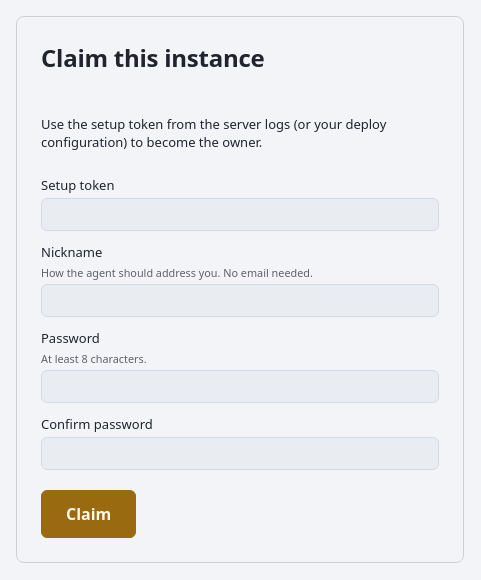
it: mismatched passwords block submission
Expected: the heading "Claim this instance" is shown, 41,41 -> 265,74
Type "t" into the field labelled "Setup token" at (240, 214), box 41,198 -> 439,231
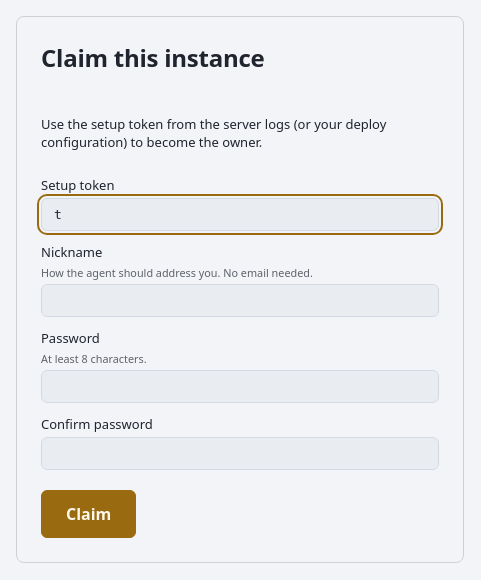
Type "dyl" into the field labelled "Nickname" at (240, 300), box 41,284 -> 439,317
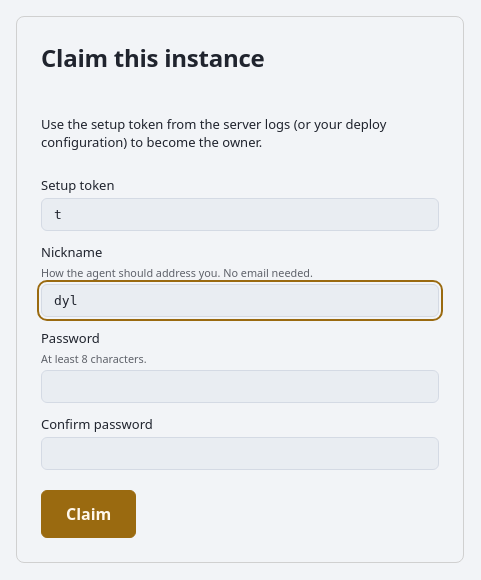
Type "hunter22-long" into the password field labelled "Password" at (240, 386), box 41,370 -> 439,403
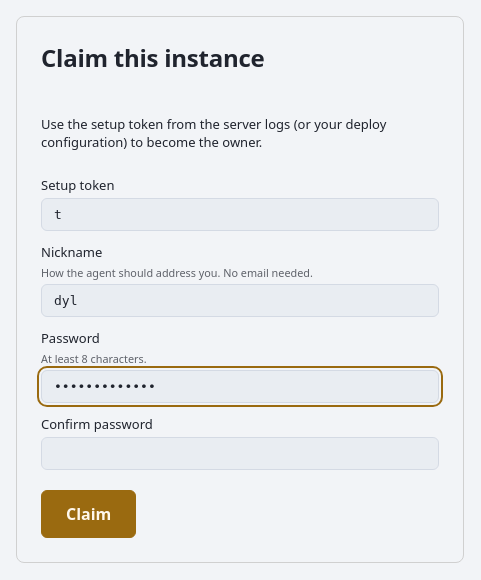
Type "different-pass" into the password field labelled "Confirm password" at (240, 454), box 41,437 -> 439,470
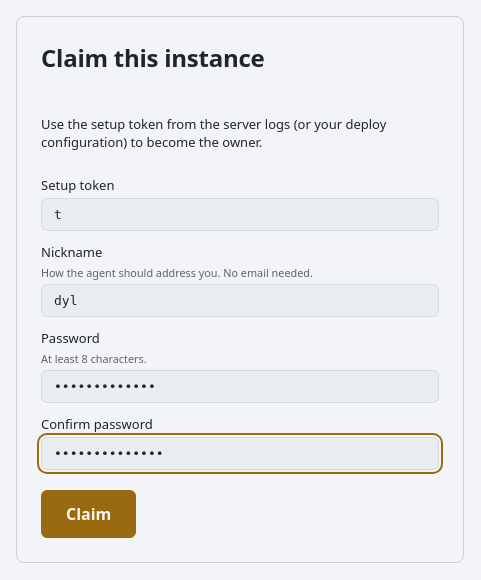
Click the button "Claim" at (89, 514), box 41,490 -> 136,538
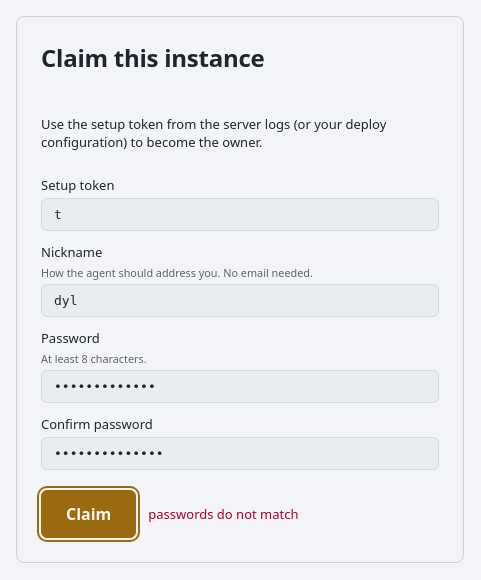
Result: the text "passwords do not match" is shown at 148,505 -> 298,523
